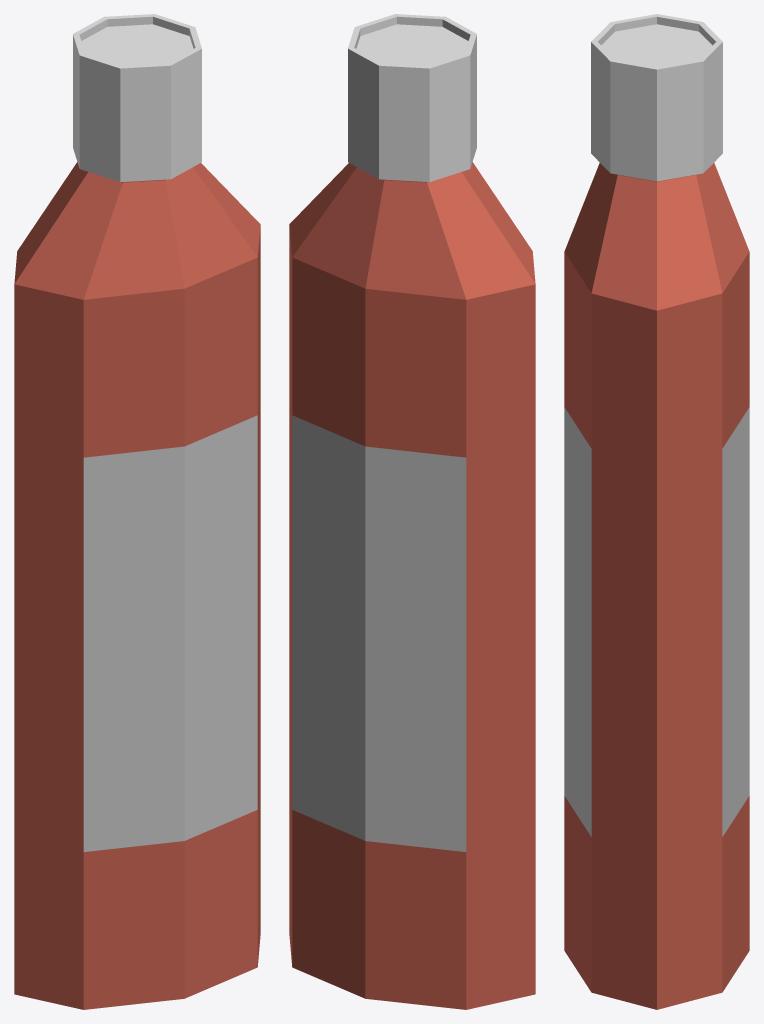
File: Shampoo Bottle.fbx
3 renders of one model, left to right at view 1: azimuth 30°, elevation 25°; view 2: azimuth 150°, elevation 25°; view 3: azimuth 270°, elevation 25°, orthographic.
Parts seen in each view (by area): view 1: Shampoo Bottle, Lid; view 2: Shampoo Bottle, Lid; view 3: Shampoo Bottle, Lid.
Part boxes in pixels (left/top/right/bottom): Shampoo Bottle: left=14, top=162, right=260, bottom=1009; Lid: left=73, top=14, right=201, bottom=182; Shampoo Bottle: left=289, top=162, right=535, bottom=1009; Lid: left=348, top=14, right=476, bottom=182; Shampoo Bottle: left=564, top=163, right=749, bottom=1009; Lid: left=591, top=14, right=722, bottom=181.
Bounding box in the file's own units: 54.43 × 195 × 36.
